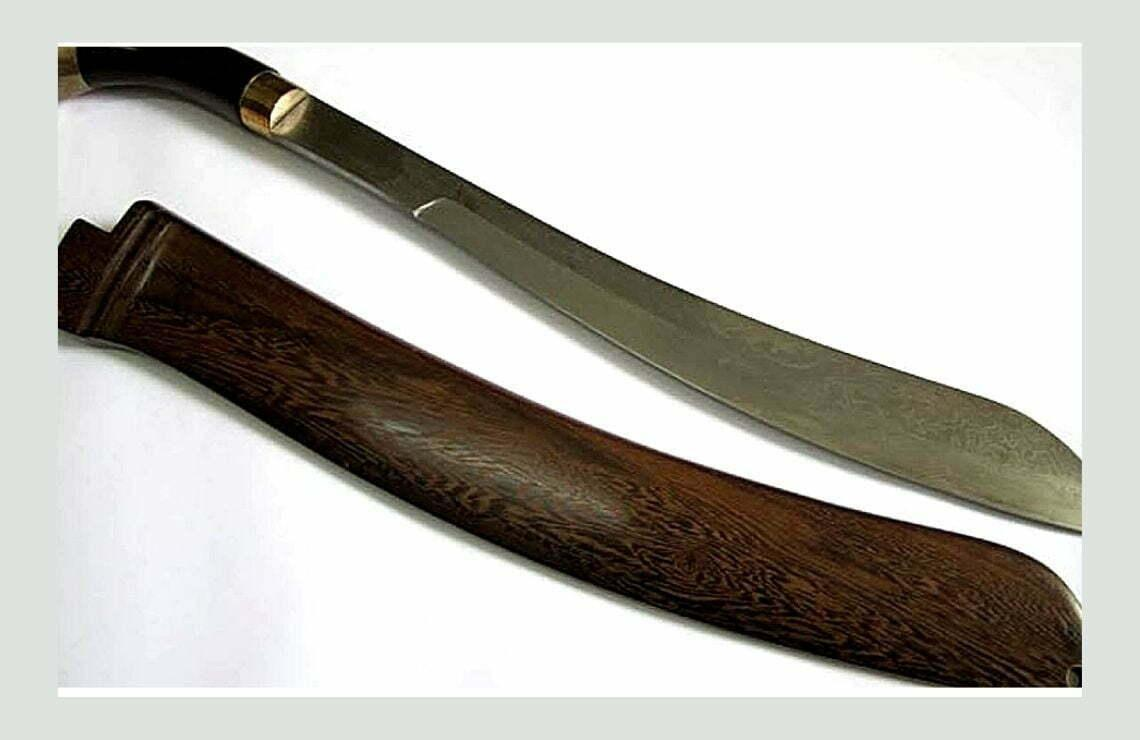facao: (59, 46, 1080, 532)
